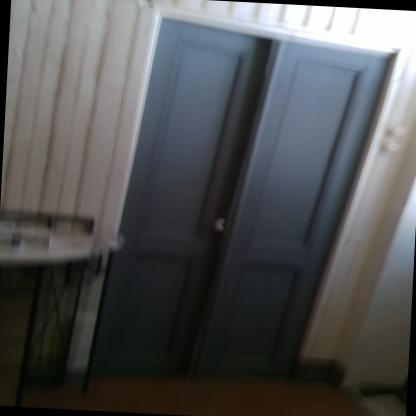closed: (105, 0, 407, 402)
